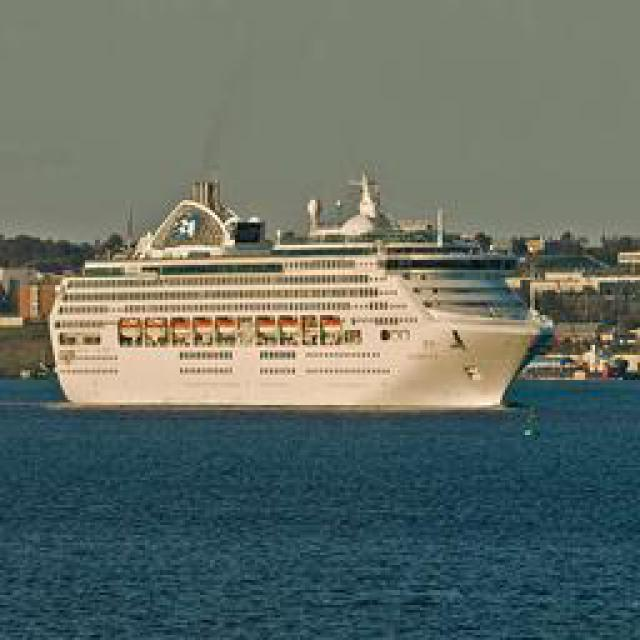Ship: (45, 181, 545, 416)
